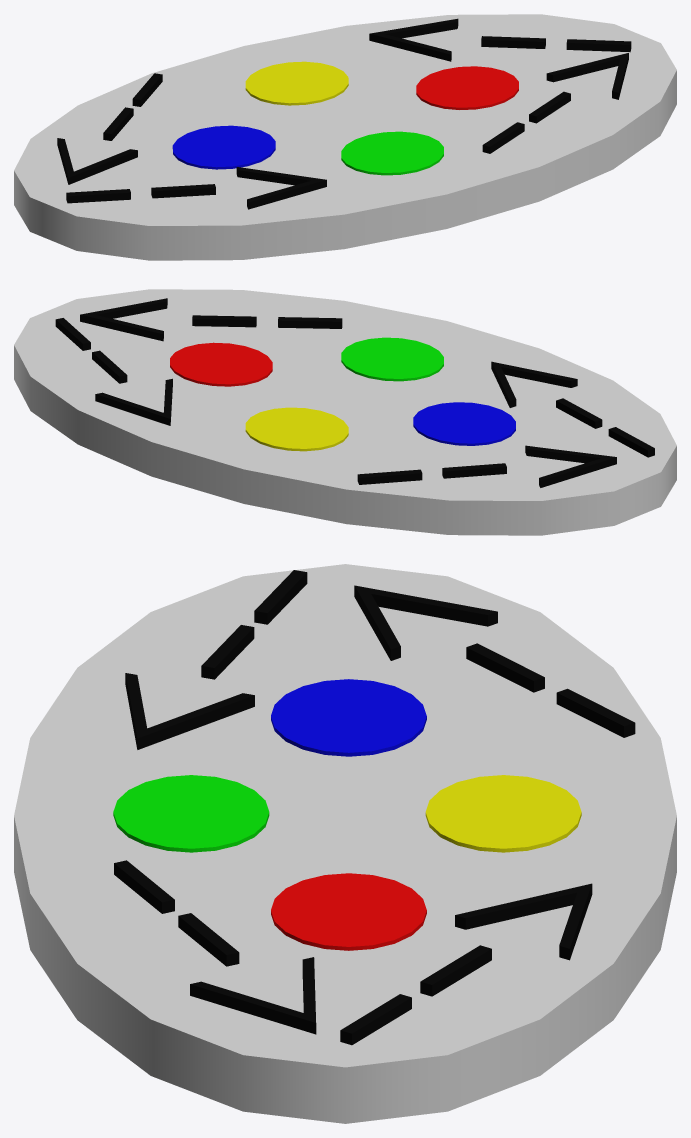
Rendered from controlSwapObj.fbx.
3 renders of one model, top to bottom at view 1: azimuth 30°, elevation 25°; view 2: azimuth 150°, elevation 25°; view 3: azimuth 270°, elevation 25°, orthographic. The views are drawn at different scales.
Visible parts, largest first — view 1: controlSwapObj; view 2: controlSwapObj; view 3: controlSwapObj.
Boxes of the visible parts, <box> form: controlSwapObj: <box>14,14,676,260</box>; controlSwapObj: <box>14,289,676,535</box>; controlSwapObj: <box>14,564,676,1123</box>.
Size of the model in its own units: 0.6115 by 0.0385 by 0.3403.
